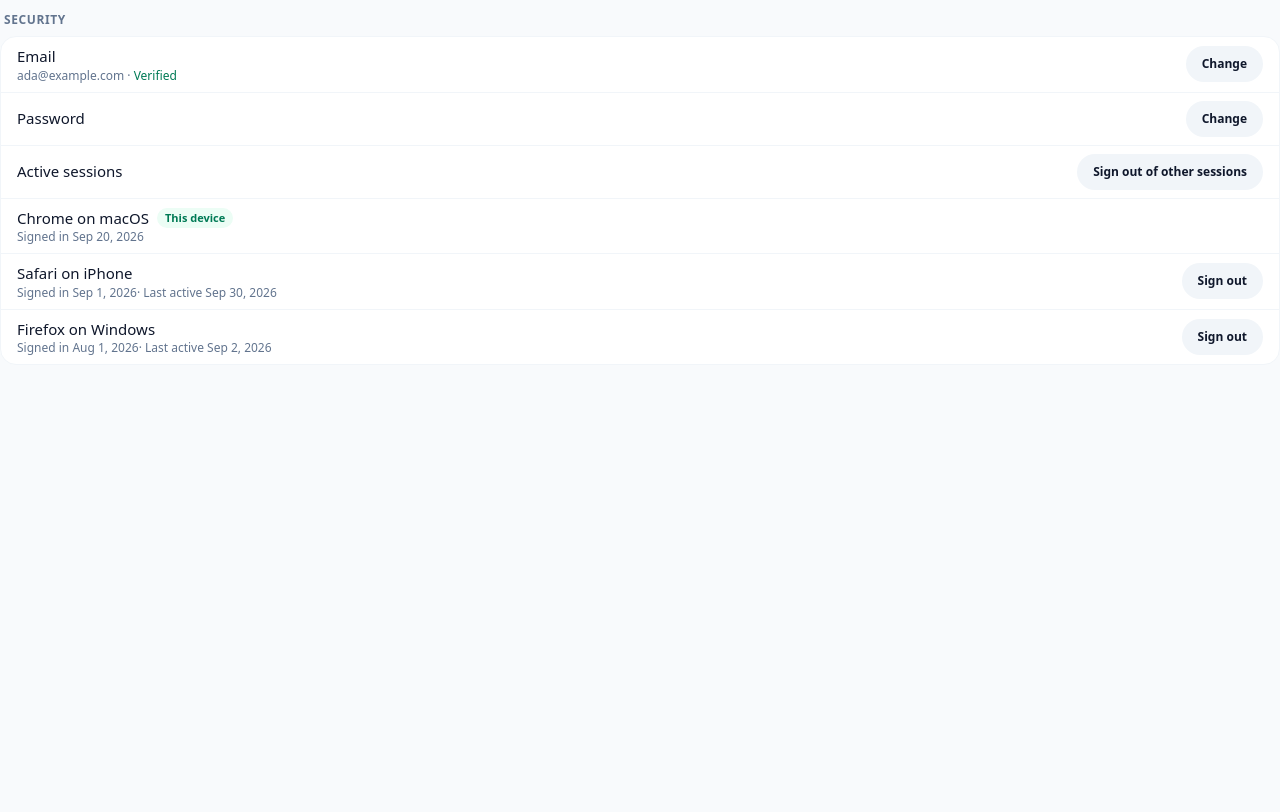
SecuritySection › checks the new password locally and explains a wrong current one
Click the button "Change" in the row of "Password" at (1224, 118), box [1186,100,1263,136]
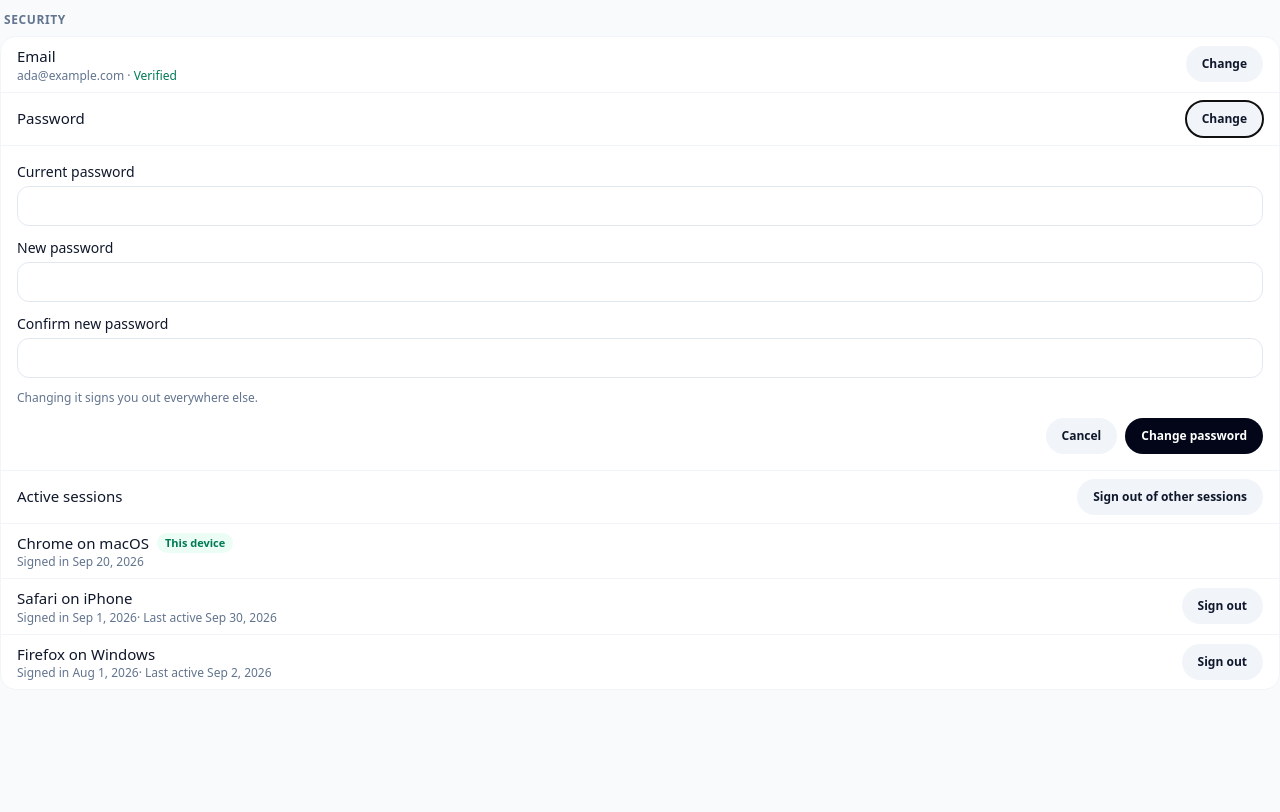
Type "old-password" into the password field labelled "Current password" at (640, 206), box [17,186,1263,226]
Type "new-password" into the password field labelled "New password" at (640, 282), box [17,262,1263,302]
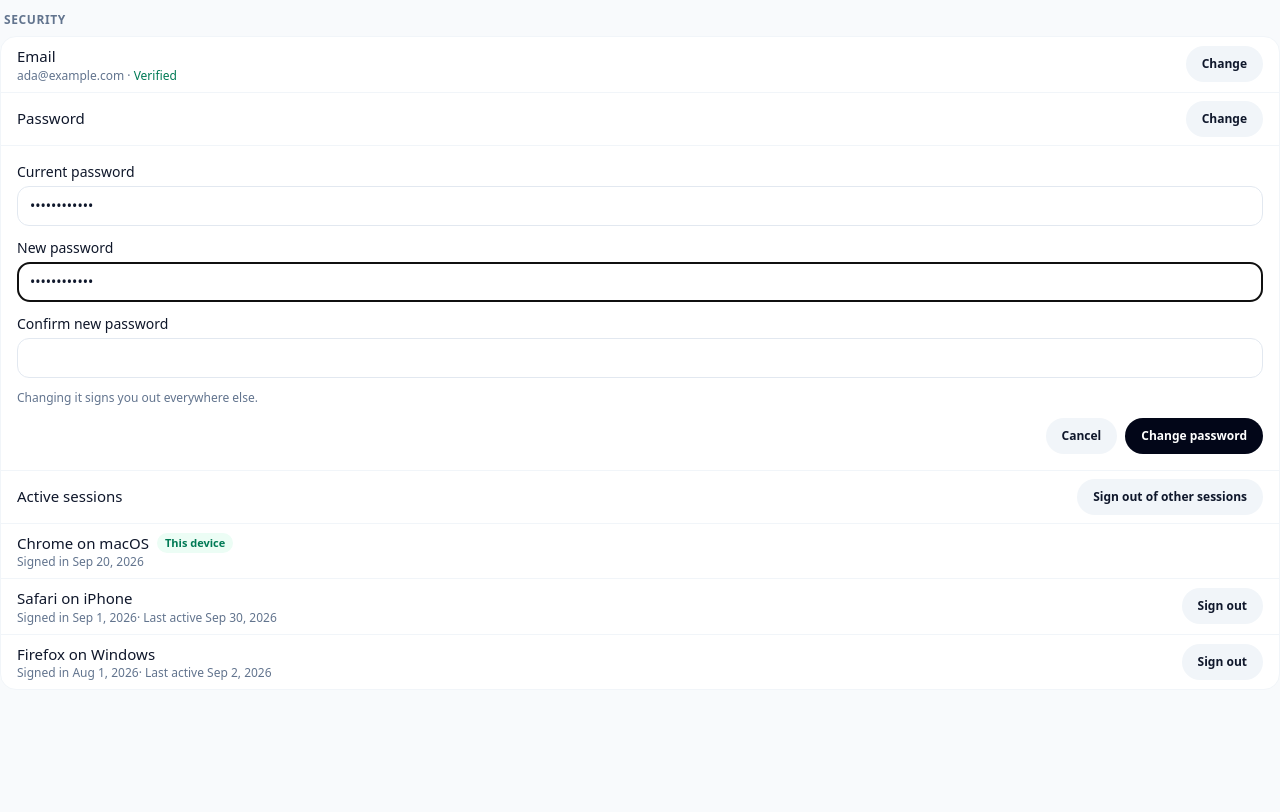
Type "typo-password" into the password field labelled "Confirm new password" at (640, 358), box [17,338,1263,378]
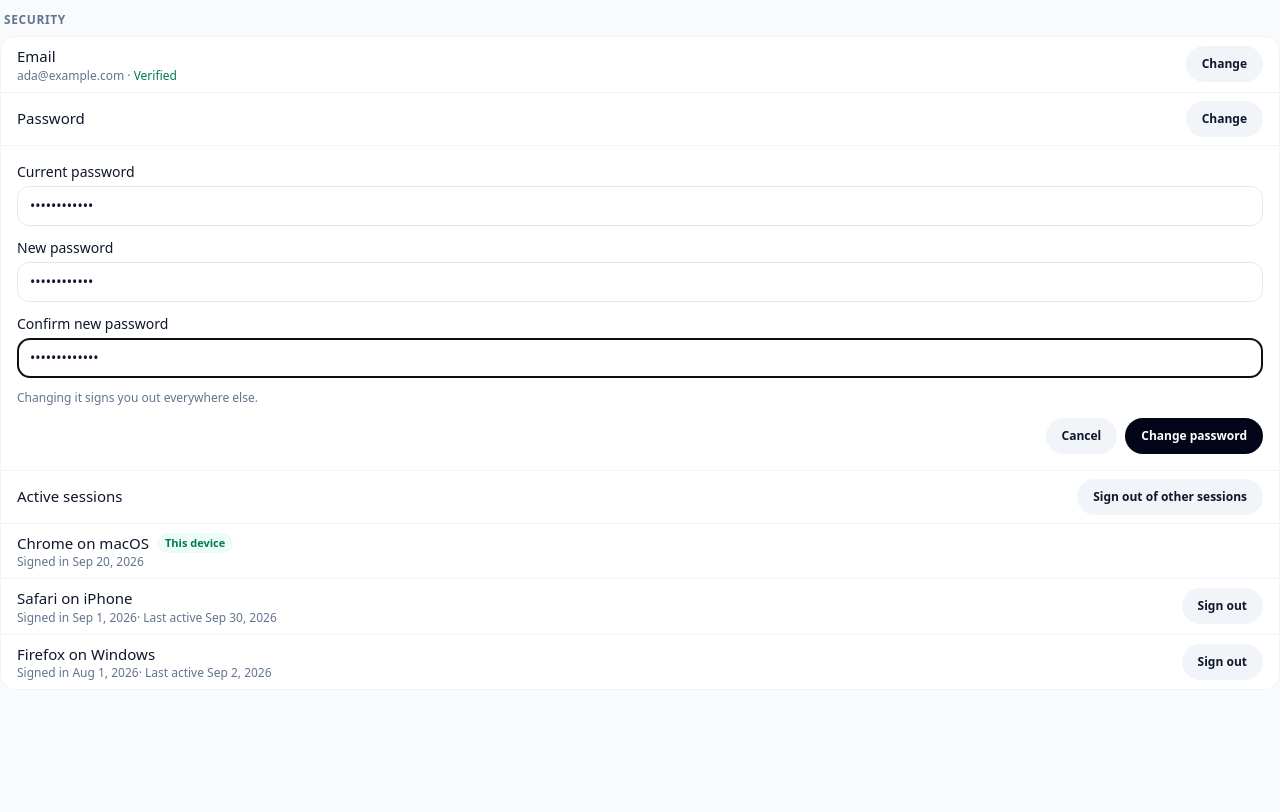
Click the button "Change password" at (1194, 436), box [1125,418,1263,454]
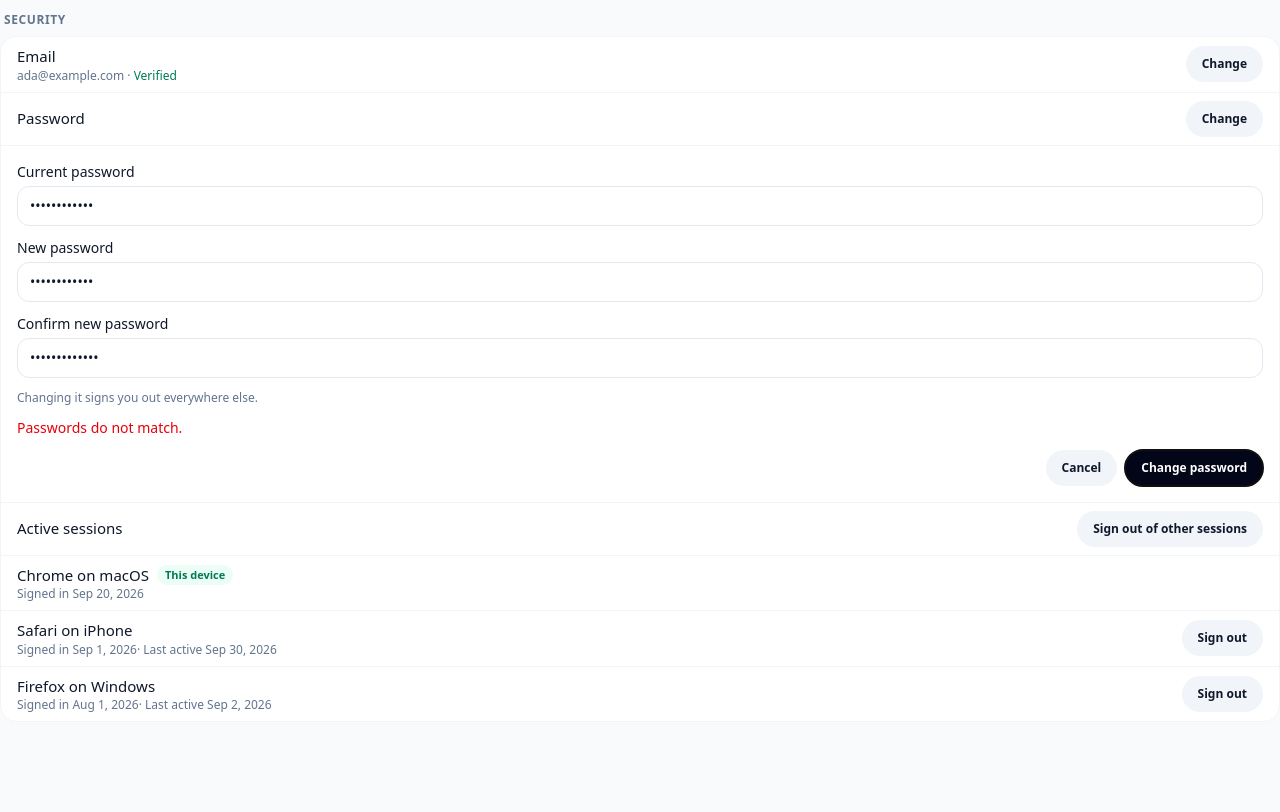
Expected: the message reads "Passwords do not match.", [17,418,182,436]
Type "new-password" into the password field labelled "Confirm new password" at (640, 358), box [17,338,1263,378]
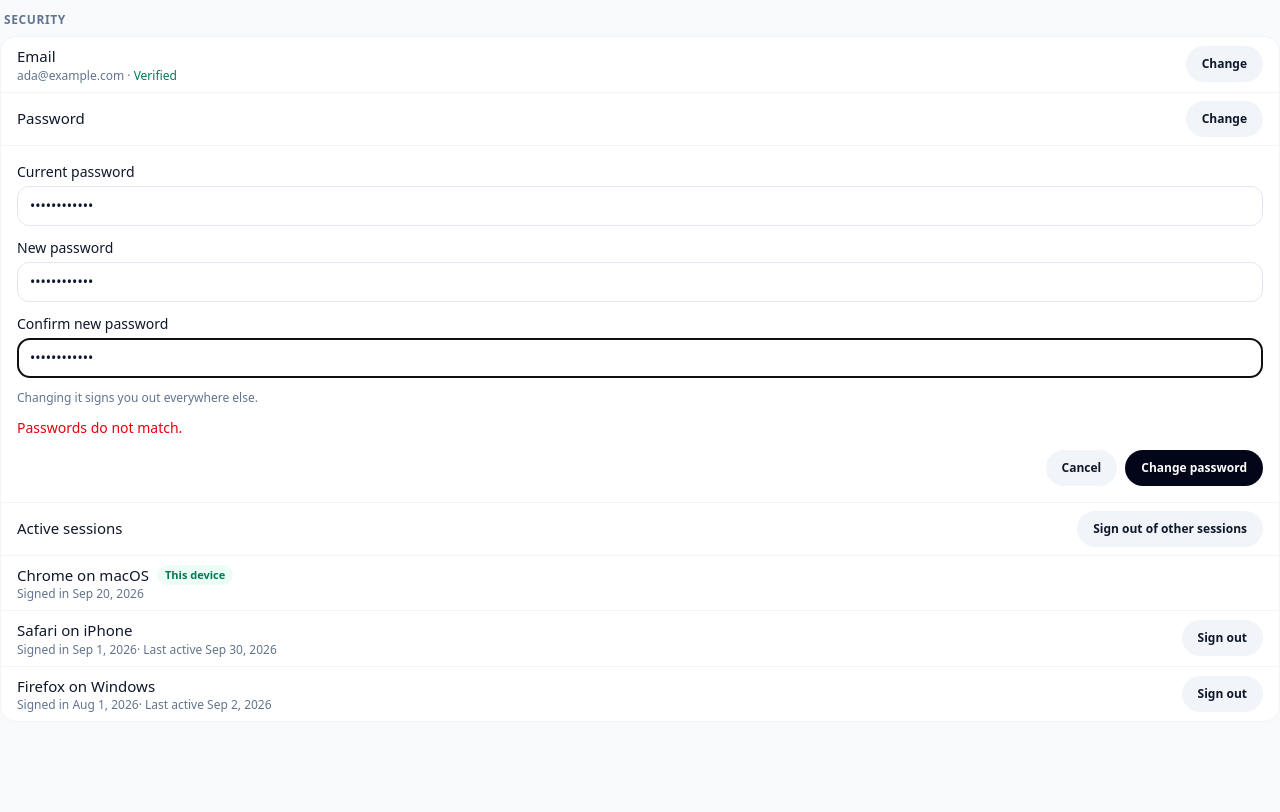
Click the button "Change password" at (1194, 468), box [1125,450,1263,486]
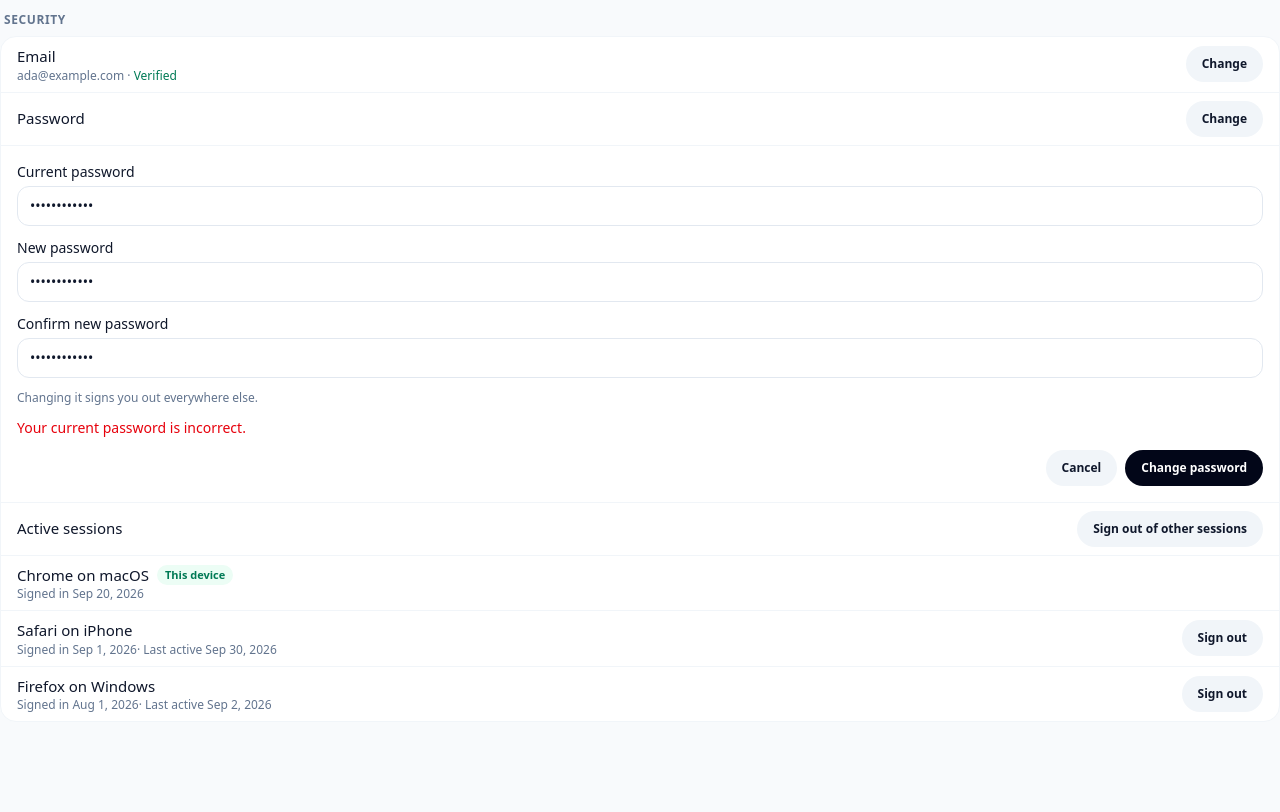
Expected: the message reads "Your current password is incorrect.", [17,418,246,436]
